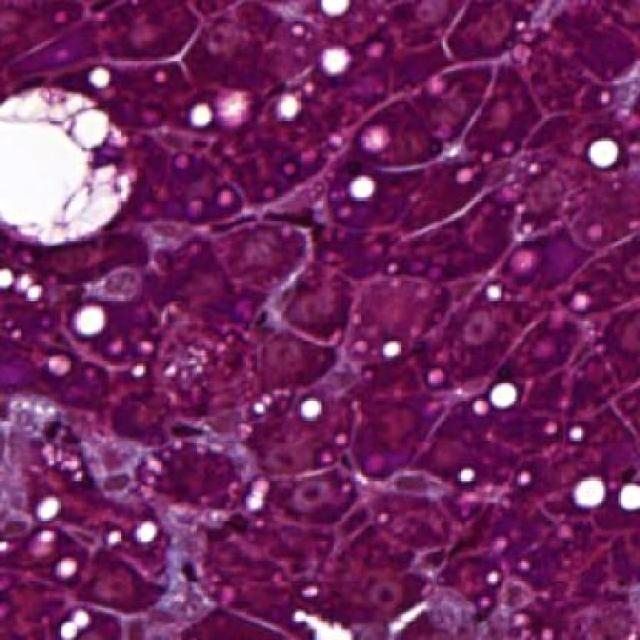ballooning: (0, 80, 137, 253)
